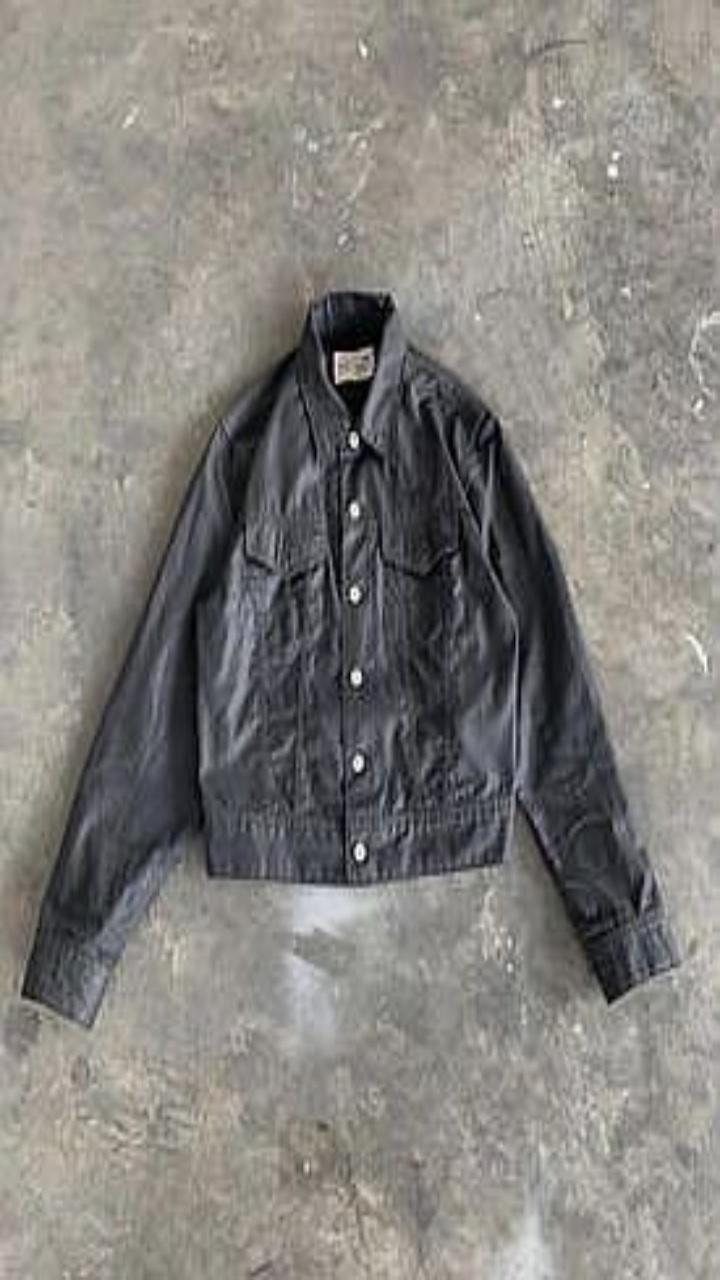Sports_Jacket: (22, 289, 679, 1025)
